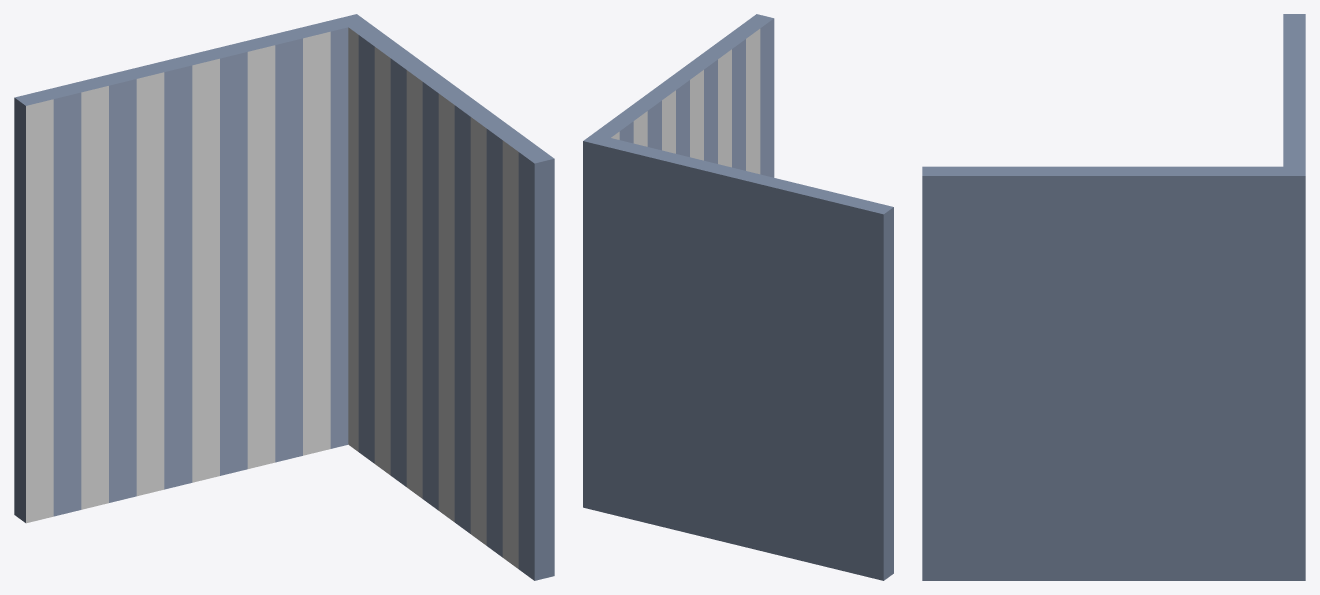
The model's file is Wall3_C8_06.fbx.
3 views of the same model, side by side, from view 1: azimuth 30°, elevation 25°; view 2: azimuth 150°, elevation 25°; view 3: azimuth 270°, elevation 25° (orthographic). The views are drawn at different scales.
Visible parts, largest first — view 1: Wall3_C8_06; view 2: Wall3_C8_06; view 3: Wall3_C8_06.
Part boxes in pixels (x1,y1,x2,y2): Wall3_C8_06: (14, 14, 554, 580); Wall3_C8_06: (583, 14, 893, 580); Wall3_C8_06: (922, 14, 1305, 580).
Bounding box in the file's own units: 258 × 300 × 258.
